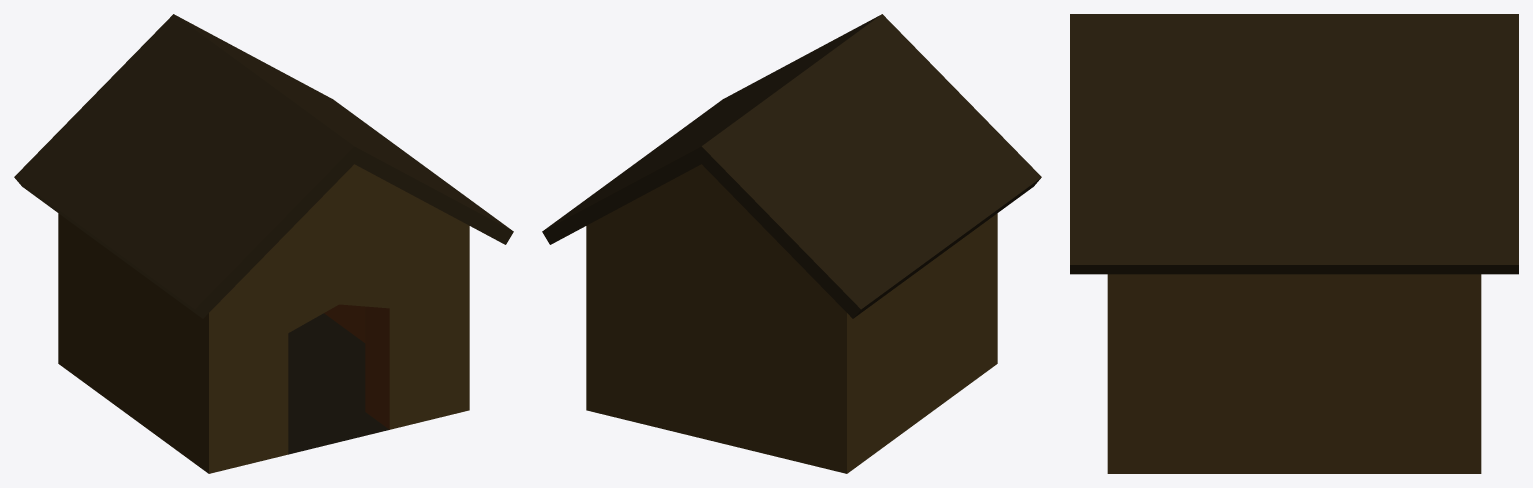
File: doghouse.fbx
3 views of the same model, side by side, from view 1: azimuth 30°, elevation 25°; view 2: azimuth 150°, elevation 25°; view 3: azimuth 270°, elevation 25° (orthographic). The views are drawn at different scales.
Visible parts, largest first — view 1: pCube1; view 2: pCube1; view 3: pCube1.
Part boxes in pixels (box(x1,y1,x2,y2)): pCube1: box(14, 14, 513, 473); pCube1: box(542, 14, 1041, 473); pCube1: box(1070, 14, 1518, 473).
Bounding box in the file's own units: 1670 × 1535 × 1639.
